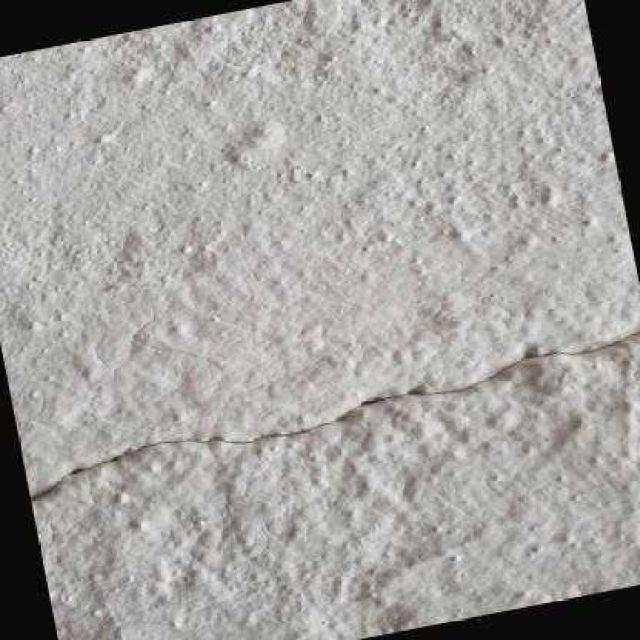D00: (28, 330, 640, 499), (29, 331, 640, 499)
